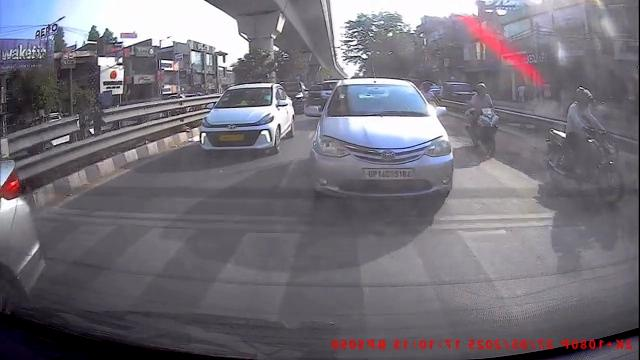motorcycle_with_helmet: (542, 83, 627, 205), (464, 77, 501, 160)
